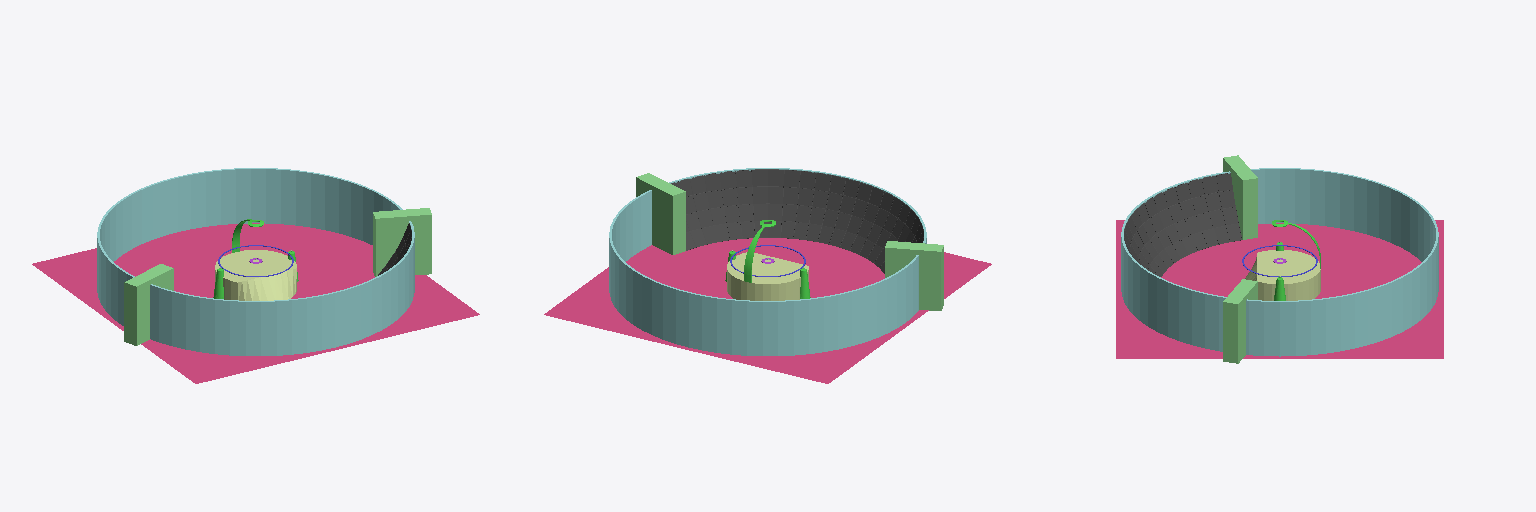
File: world_2015-12-20.obj
3 views of the same model, side by side, from view 1: azimuth 30°, elevation 25°; view 2: azimuth 150°, elevation 25°; view 3: azimuth 270°, elevation 25° (orthographic).
Parts seen in each view (by area): view 1: Tube002, Plane001, Cylinder001, Box002, Box003; view 2: Tube002, Plane001, Sphere004, Cylinder001, Box002, Box003, Sphere005; view 3: Tube002, Plane001, Sphere004, Cylinder001, Box002, Box003, Sphere005.
Part boxes in pixels (bbox=[...]): Tube002: bbox=[97, 168, 414, 355]; Plane001: bbox=[32, 223, 479, 383]; Cylinder001: bbox=[215, 250, 296, 300]; Box002: bbox=[373, 208, 431, 276]; Box003: bbox=[124, 264, 173, 345]; Tube002: bbox=[609, 168, 926, 355]; Plane001: bbox=[544, 238, 991, 383]; Sphere004: bbox=[672, 170, 923, 271]; Cylinder001: bbox=[727, 252, 808, 300]; Box002: bbox=[636, 173, 685, 254]; Box003: bbox=[885, 241, 943, 310]; Sphere005: bbox=[671, 169, 923, 273]; Tube002: bbox=[1121, 168, 1438, 356]; Plane001: bbox=[1116, 220, 1443, 358]; Sphere004: bbox=[1124, 173, 1241, 276]; Cylinder001: bbox=[1245, 250, 1320, 300]; Box002: bbox=[1223, 279, 1257, 363]; Box003: bbox=[1223, 155, 1257, 239]; Sphere005: bbox=[1124, 173, 1241, 276].
Bounding box in the file's own units: 2143 × 449 × 2000.